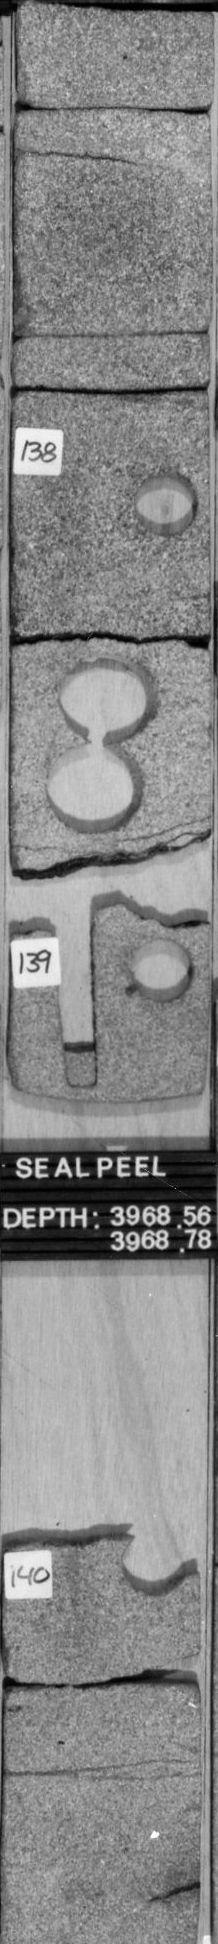hplug: (121, 459, 204, 539), (116, 931, 204, 1007), (116, 1529, 199, 1599)
scal: (38, 739, 154, 839), (50, 655, 163, 739)
vplug: (40, 905, 111, 1087)
